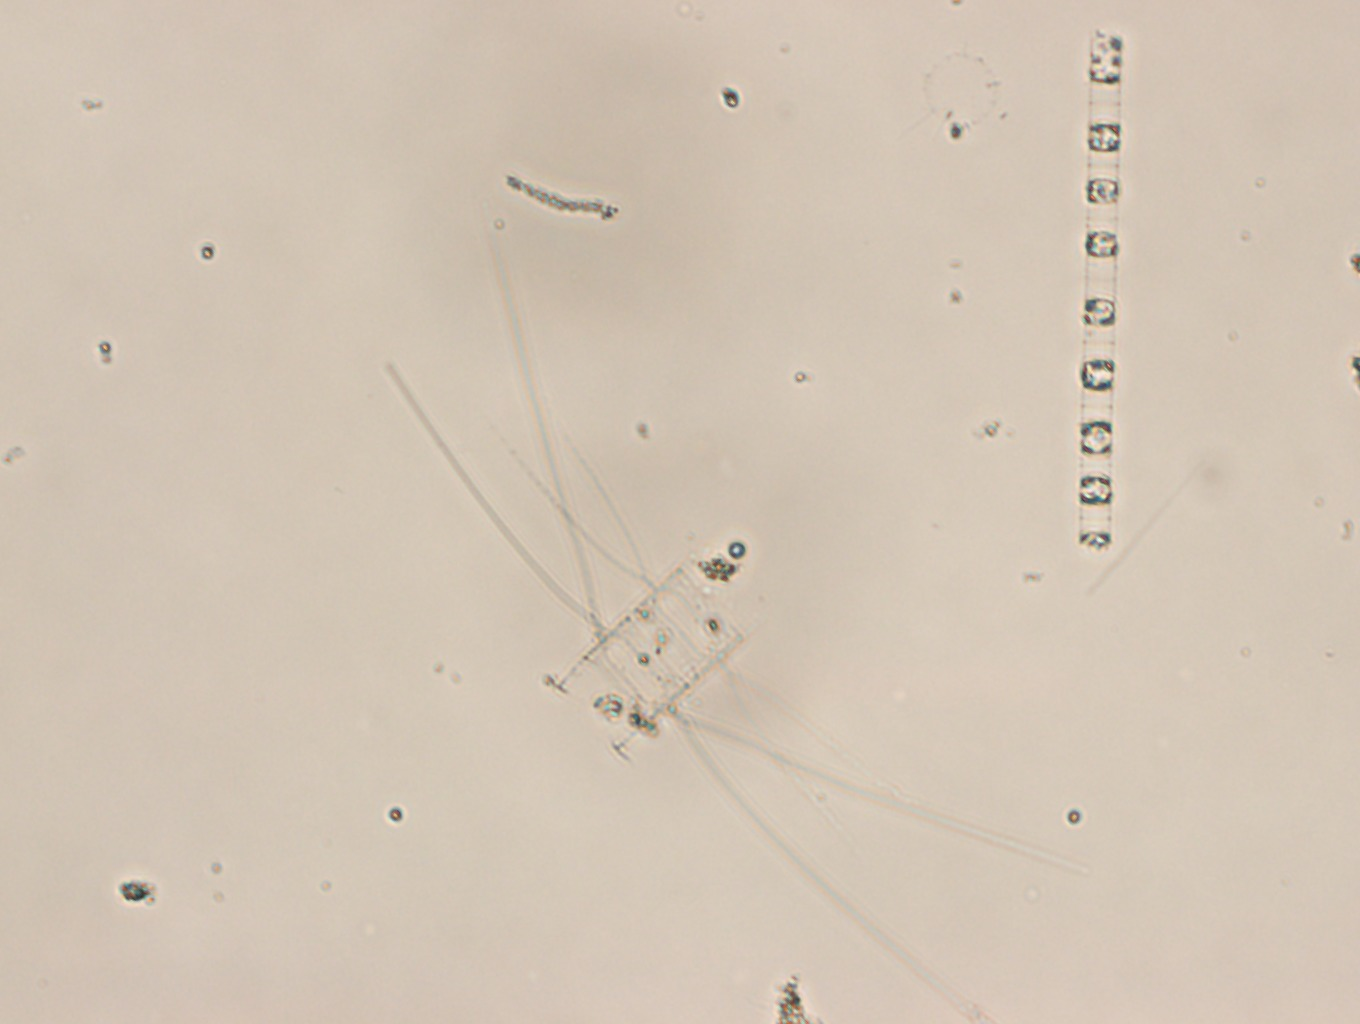chaetoceros: (384, 222, 1068, 1004)
skeletonema: (1076, 28, 1123, 554)
